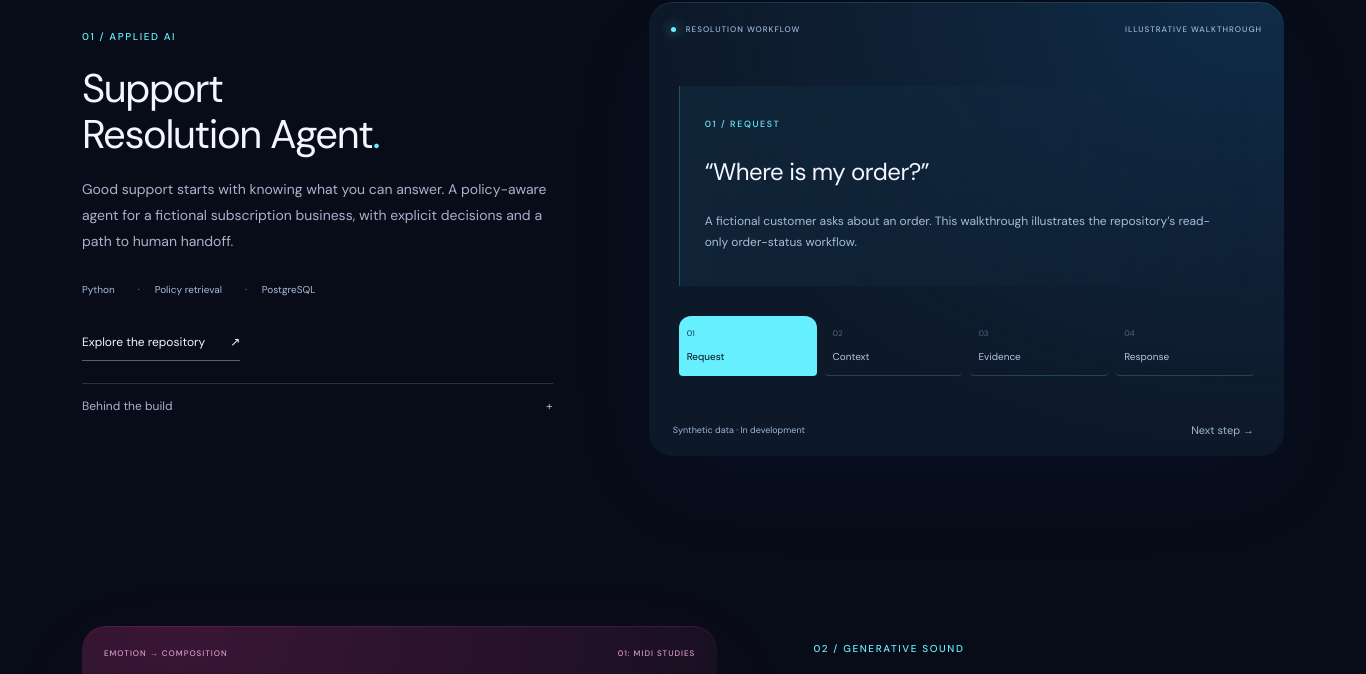
Test case: walkthrough advances and mobile navigation closes after selection
Later steps or results of the test are not shown.
(page scrolled)
Click the button "Next step →": [1223, 430] box left=1185, top=422, right=1260, bottom=438
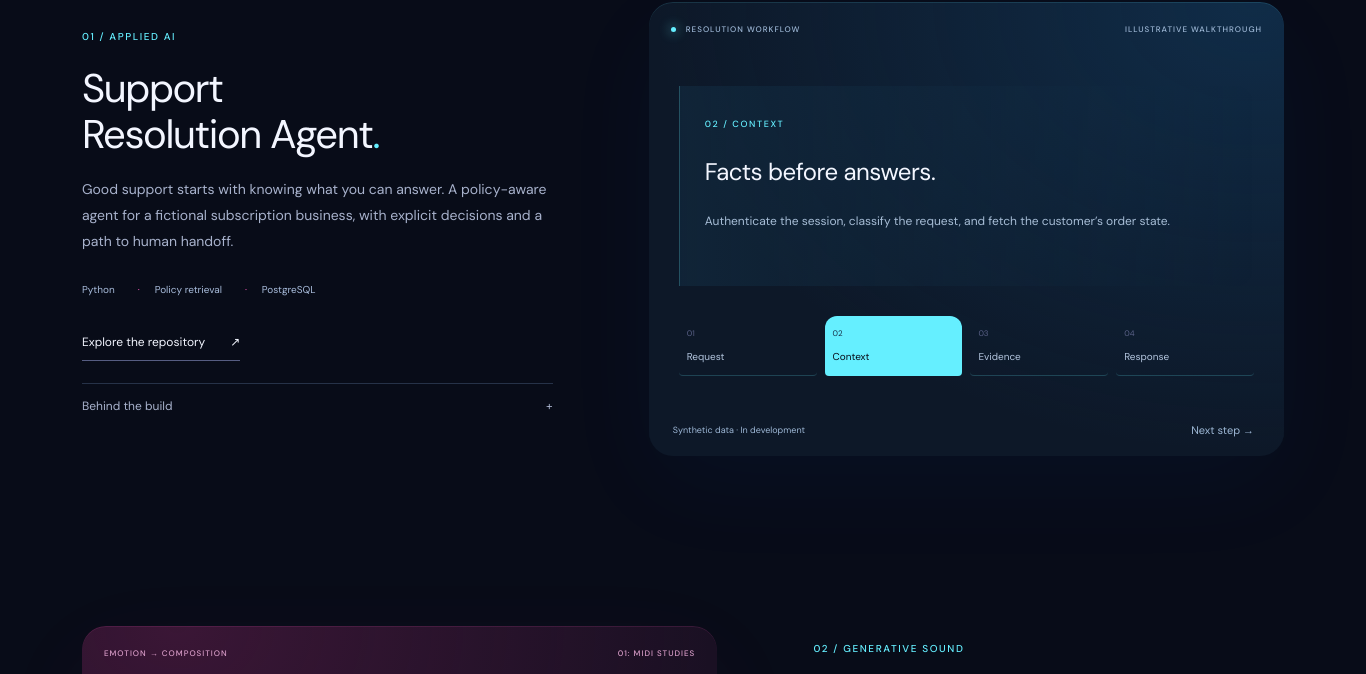
Expected: the heading "Facts before answers." is shown, left=705, top=156, right=935, bottom=187
